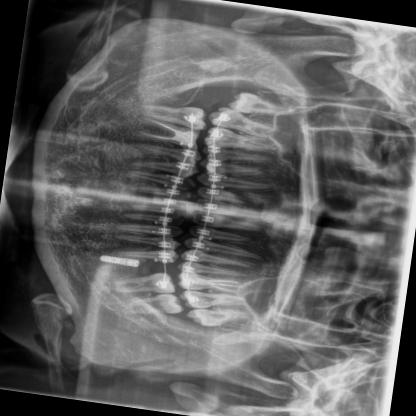ITI: (93, 251, 142, 270)
